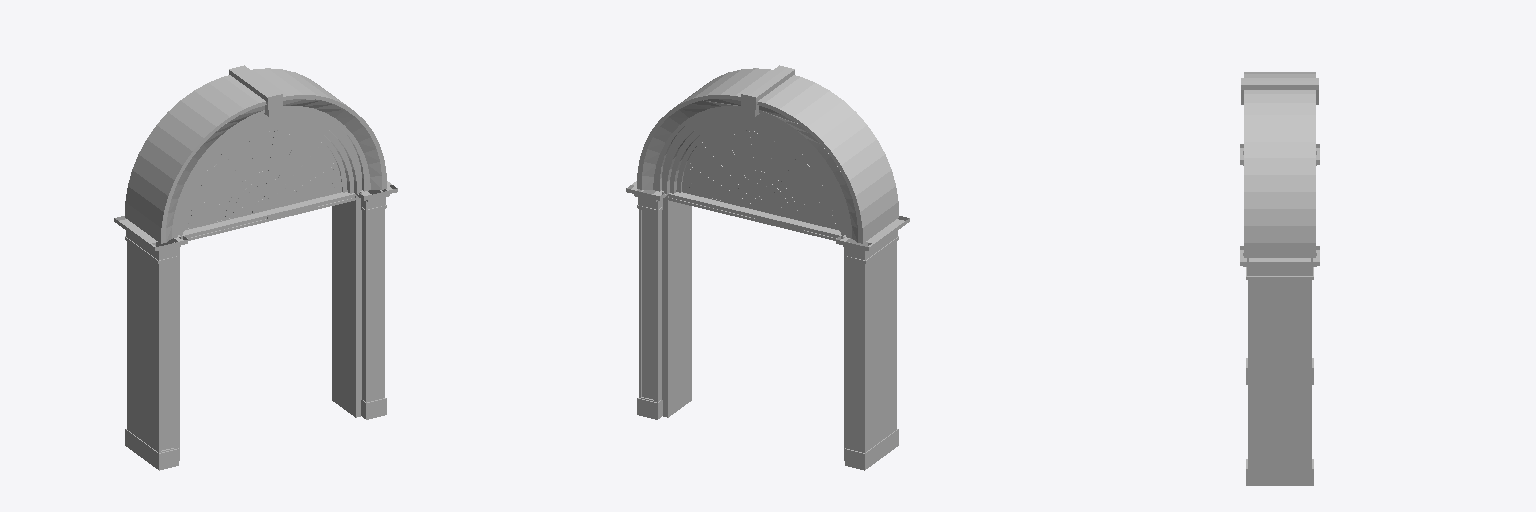
Rendered from door.obj.
3 views of the same model, side by side, from view 1: azimuth 30°, elevation 25°; view 2: azimuth 150°, elevation 25°; view 3: azimuth 270°, elevation 25° (orthographic).
Size of the model in its own units: 101 by 139 by 29.25.